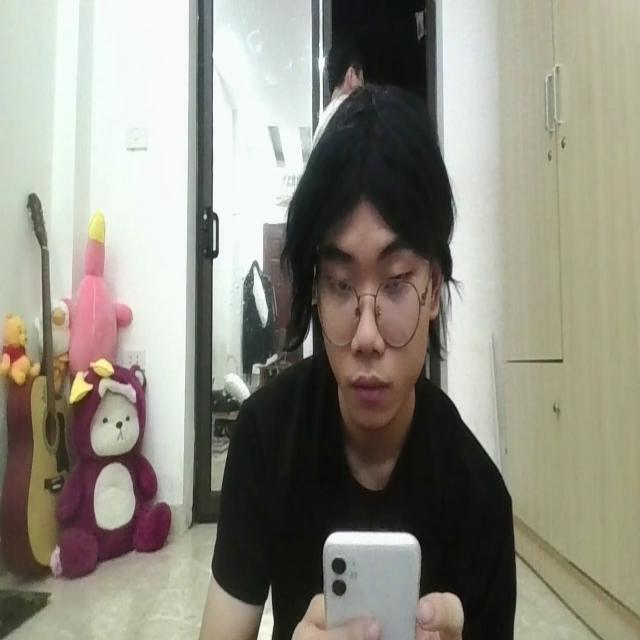phone: (323, 525, 419, 640)
student: (201, 73, 513, 640)
